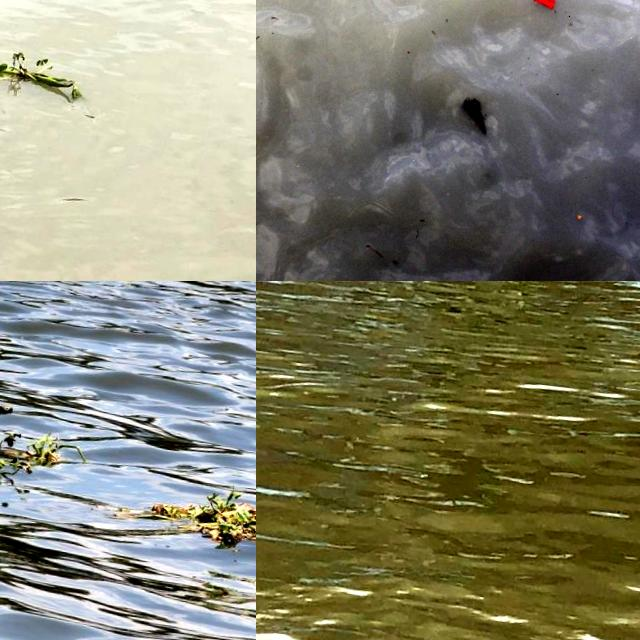water-hyacinth: (114, 485, 256, 552), (1, 30, 92, 109), (1, 398, 54, 496)
